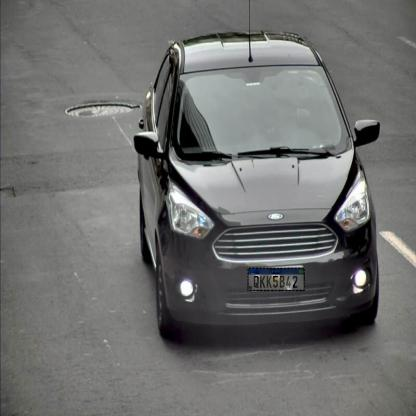PlacaM: (247, 268, 304, 291)
